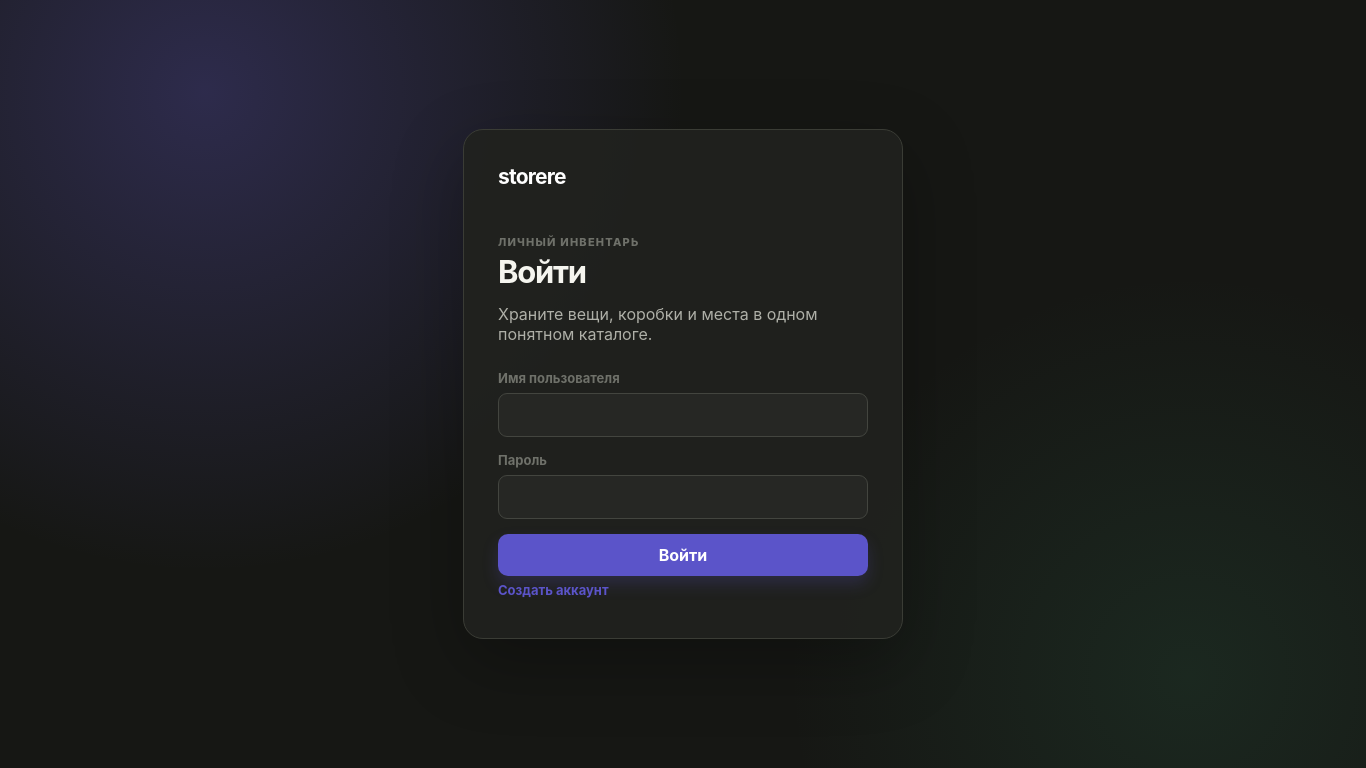
Test: App › enters the first-space setup after a successful login
Check: the heading "Войти" is shown, box [498,253,586,290]
Type "misha" into the field labelled "Имя пользователя" at coordinates (683, 415), box [498,393,868,437]
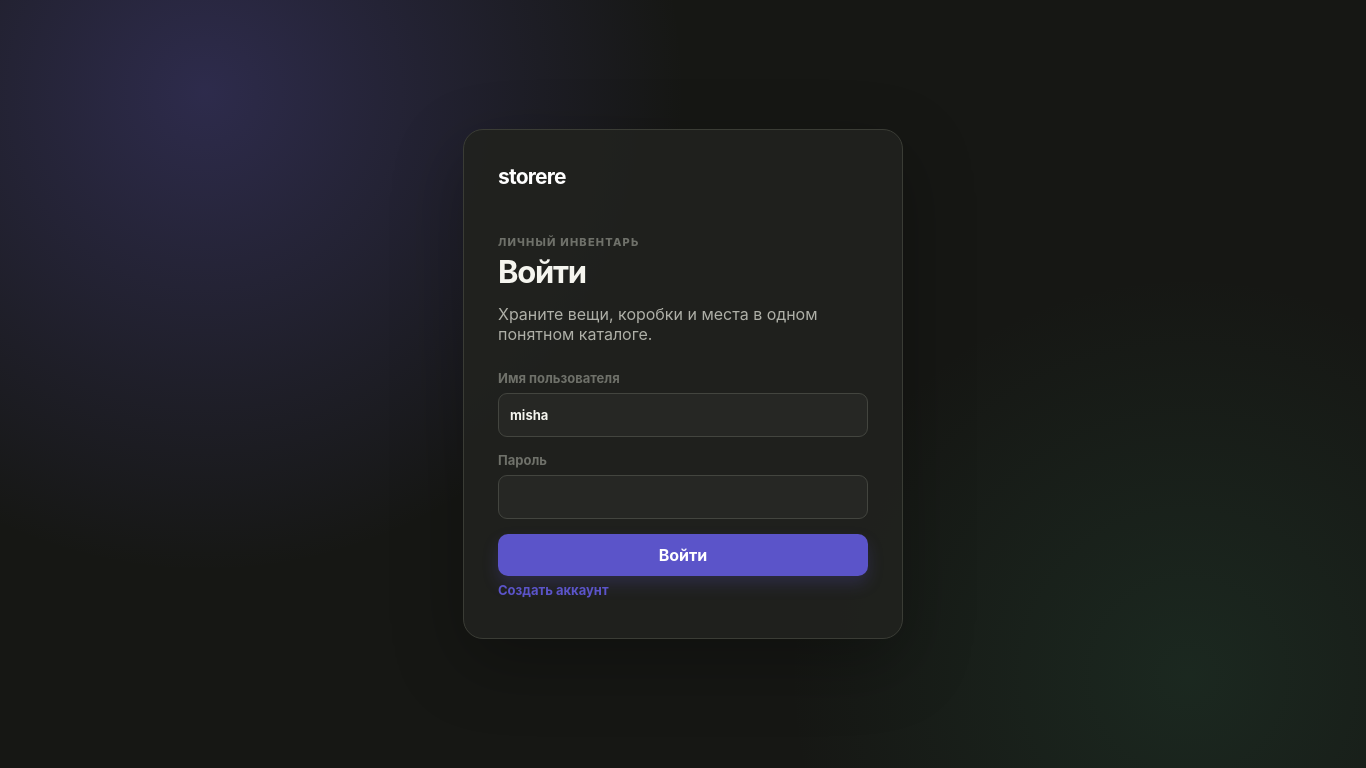
Type "very-long-password" into the password field labelled "Пароль" at coordinates (683, 497), box [498,475,868,519]
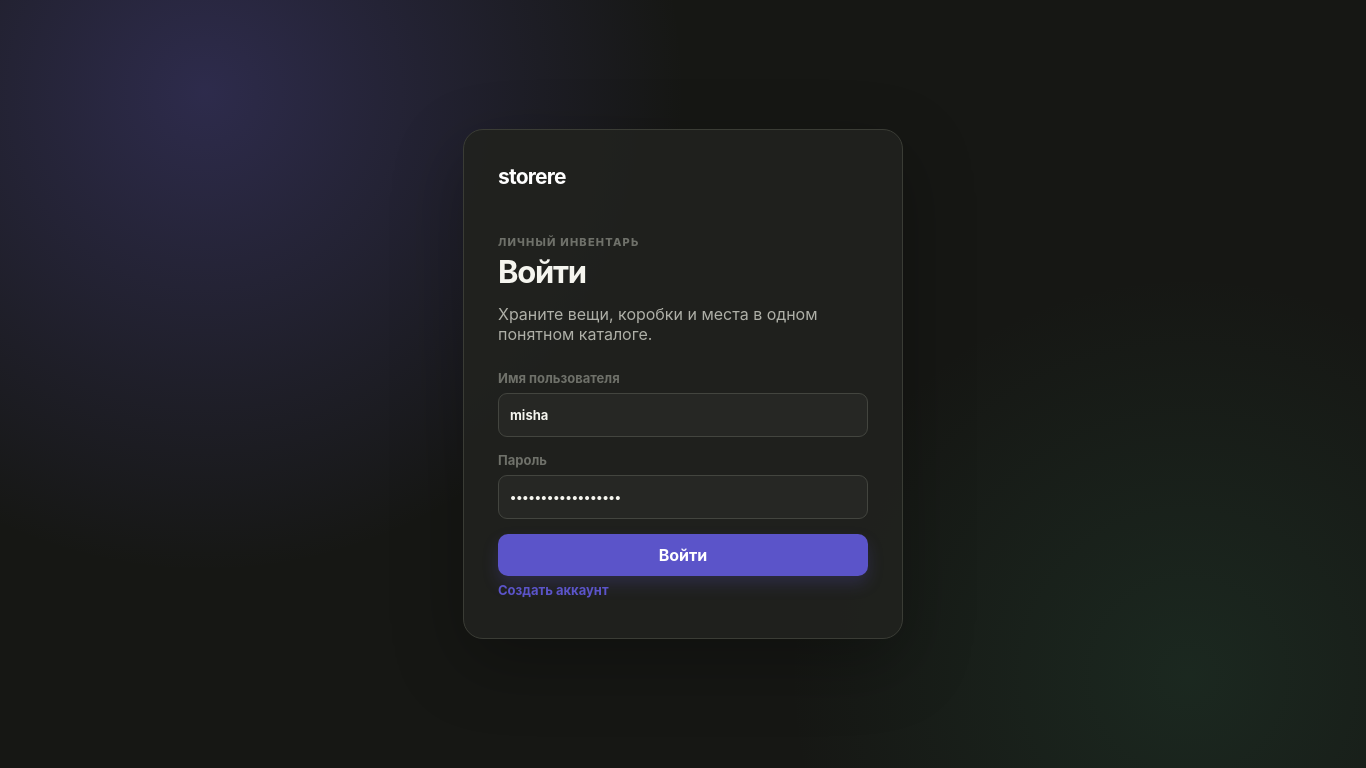
Click the button "Войти" at coordinates (683, 555), box [498,534,868,576]
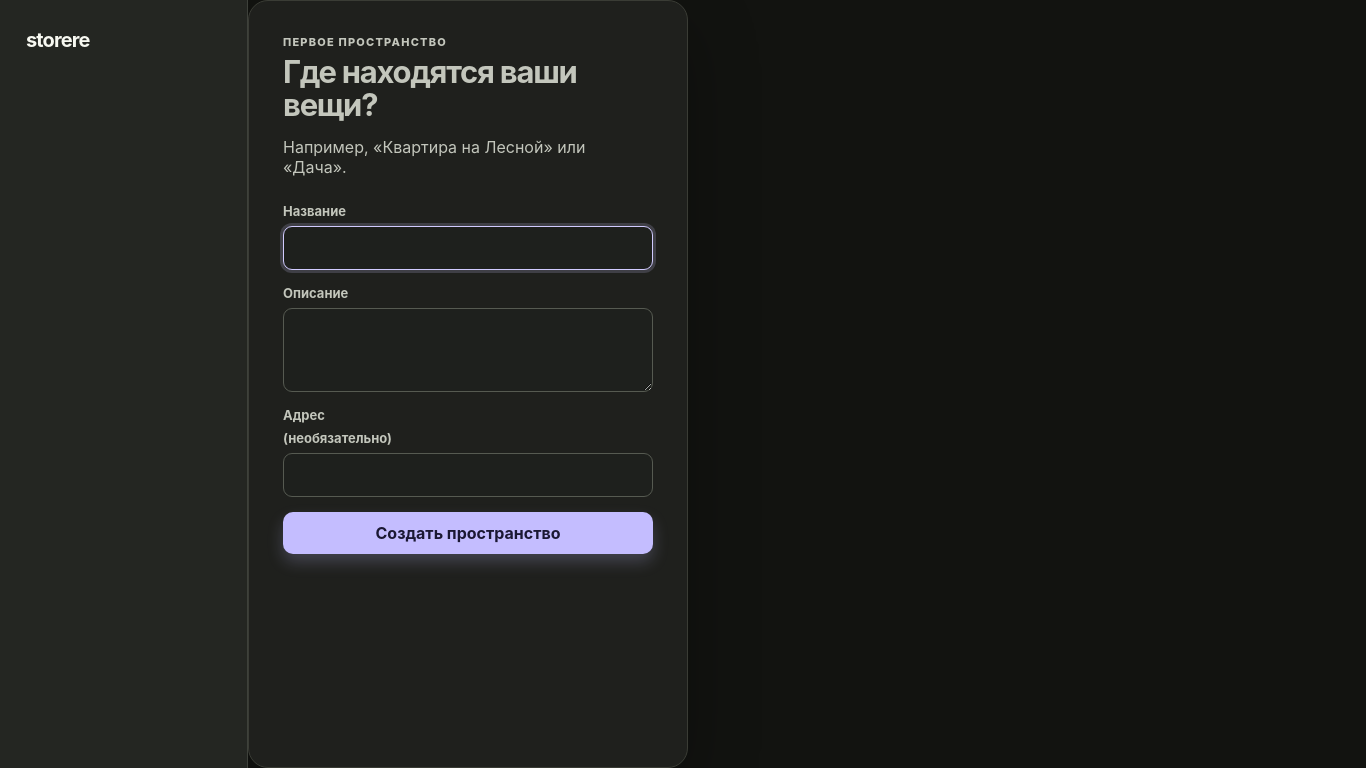
Check: the heading "Где находятся ваши вещи?" is shown, box [283,53,577,122]
